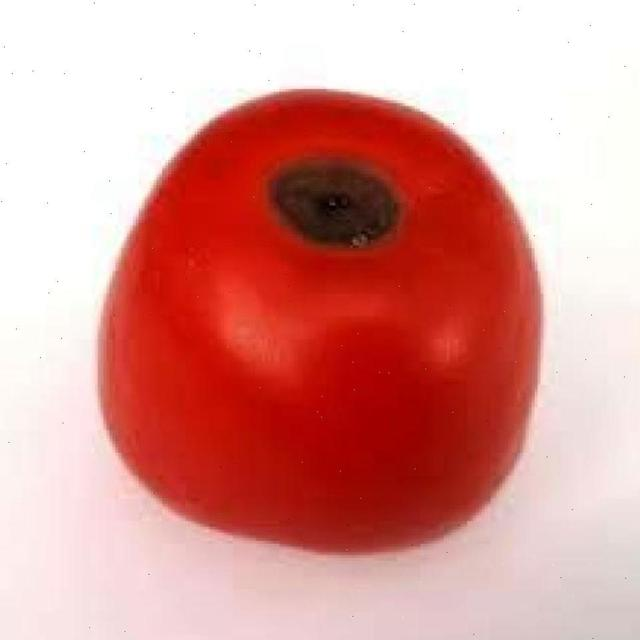Blossom End Rot Fruit: (165, 93, 274, 170)
